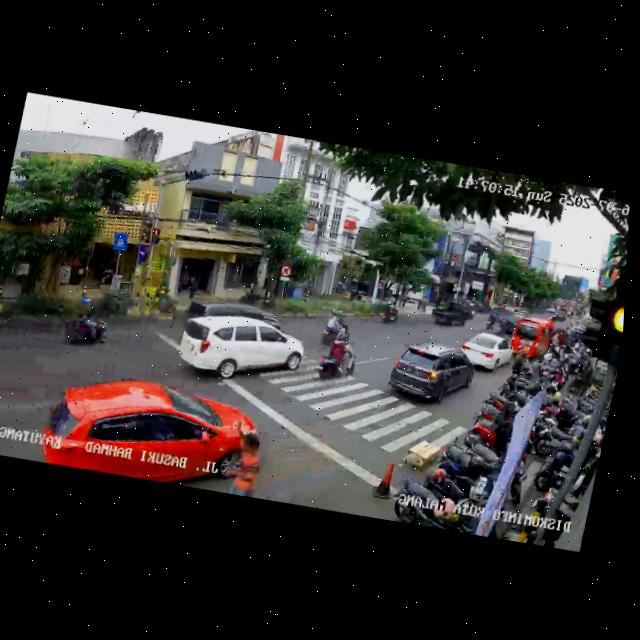car: (35, 365, 270, 497), (170, 306, 309, 397), (382, 338, 479, 412), (456, 330, 517, 377), (508, 314, 554, 364), (429, 296, 475, 333)
motorcycle: (312, 324, 363, 387), (58, 304, 114, 354), (316, 304, 357, 352), (376, 299, 409, 330)
